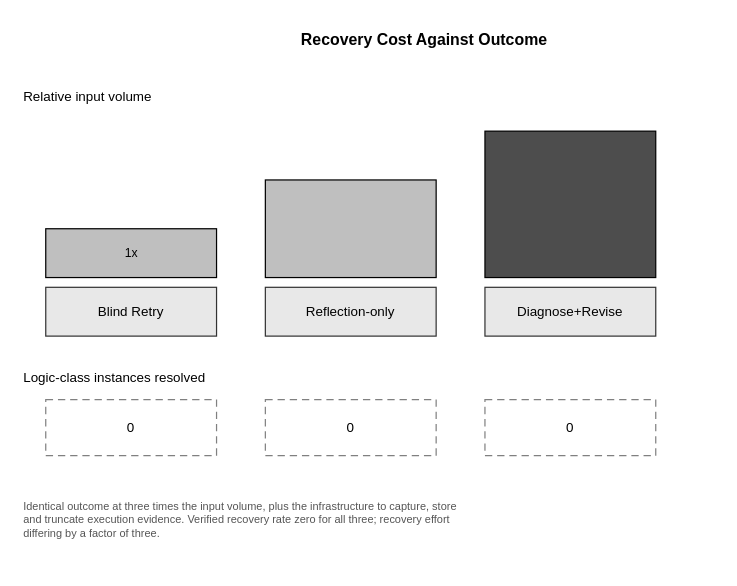
Some shapes in this 737 by 586 pixel diagram are drawn without their labels. Here are the shapes that lost their labels. From the top down, the centre of each, then its label:
At pixel 570 204: "3x".
At pixel 350 228: "2x".
